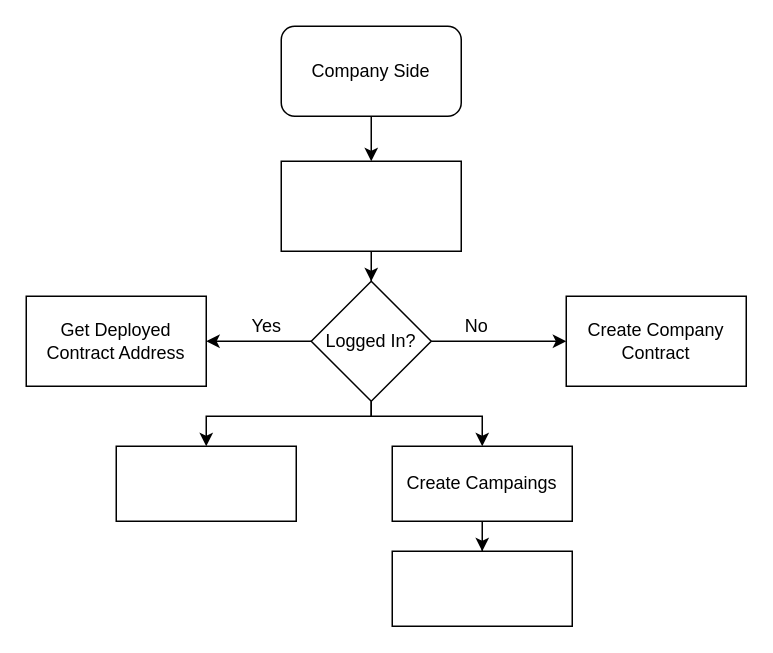
This 773x653 diagram has some shape labels left out. The centre of each missing label's shape, as x and y in pixels:
"Escrow Payment" goes at (x=481, y=588).
"Manager Contract" goes at (x=370, y=205).
"Ongoing Campaings" goes at (x=205, y=483).
